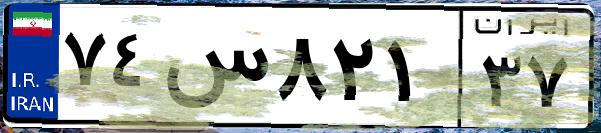1: (385, 28, 445, 110)
2: (330, 28, 385, 110)
3: (475, 38, 525, 113)
4: (110, 28, 158, 98)
7: (57, 26, 110, 100), (525, 38, 570, 115)
8: (270, 28, 330, 110)
س: (158, 20, 270, 120)
